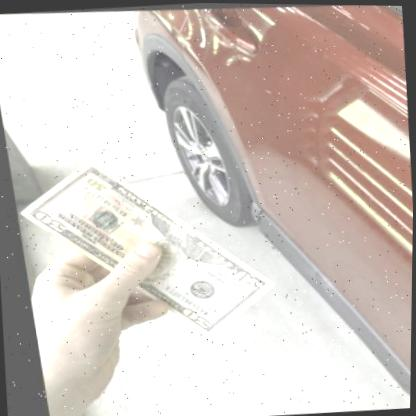fifty-front: (16, 159, 270, 336)
